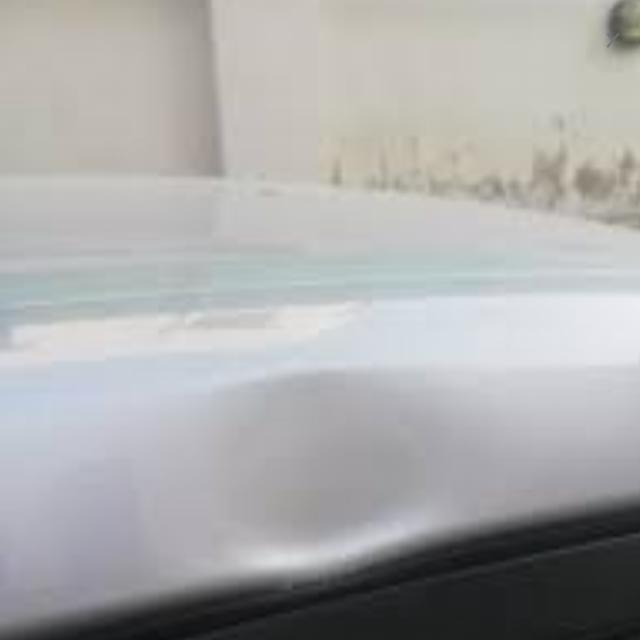dents: (167, 354, 464, 587)
